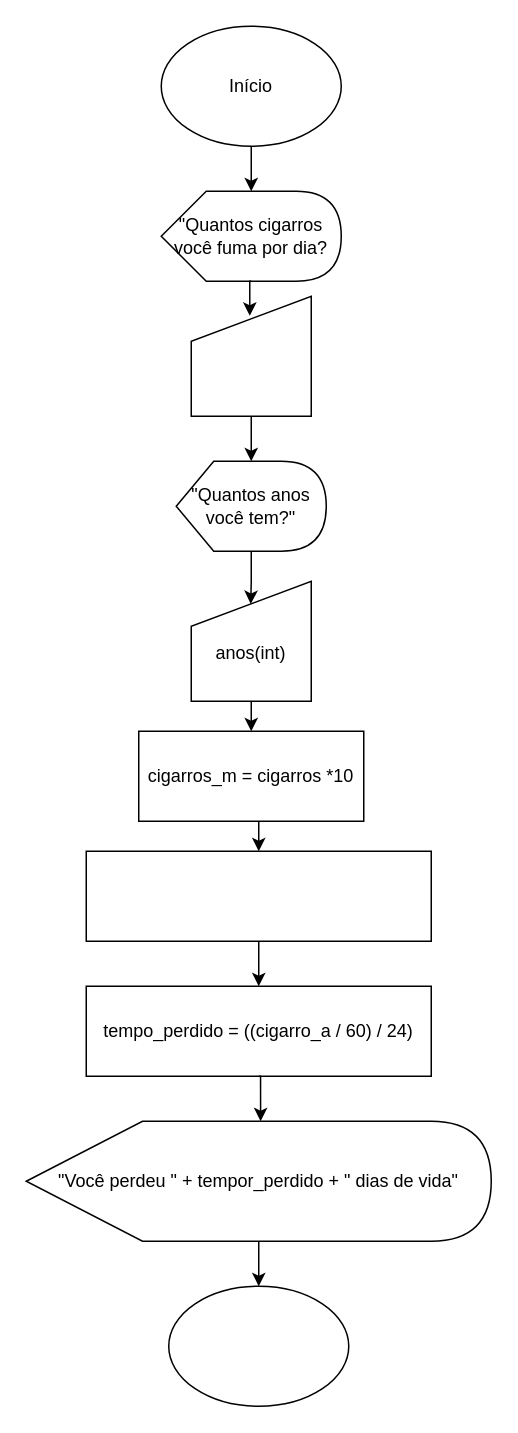
Image size: 518x1433. Some labels were removed from this diagram. Here are the shapes that lost their labels. From the top down, the centre of each, then its label:
(250,355): cigarros(int)
(258,895): cigarros_a = cigarros_m * anos* 365
(258,1345): Fim
